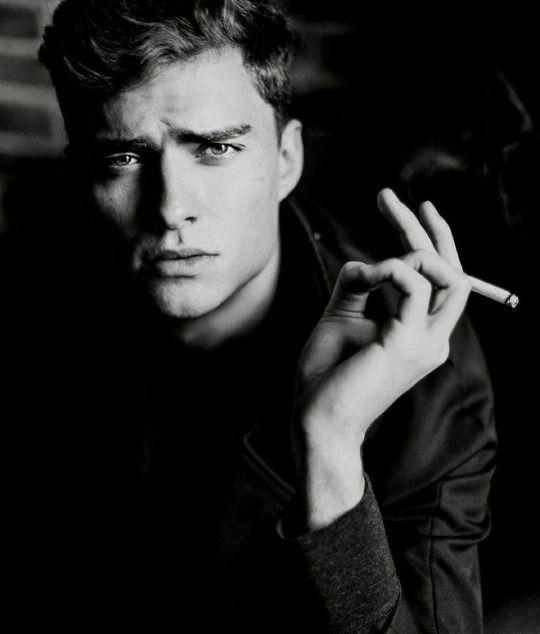cigarette: (460, 271, 520, 308)
